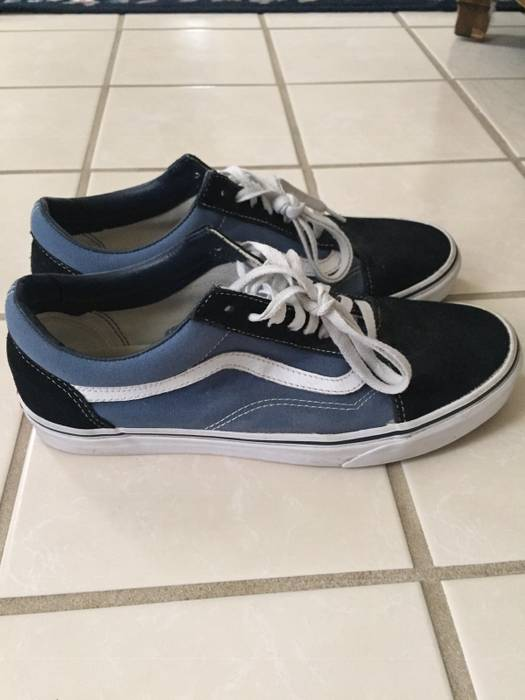Vans Old Skool Blue: (4, 267, 523, 474), (20, 149, 481, 311)
